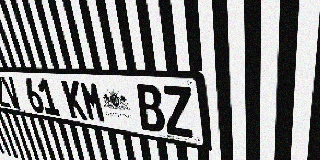1: (35, 78, 60, 116)
6: (22, 78, 46, 114)
B: (134, 84, 166, 134)
K: (61, 80, 88, 121)
M: (79, 81, 107, 124)
V: (1, 77, 23, 110)
Z: (161, 85, 195, 138), (0, 76, 12, 108)
